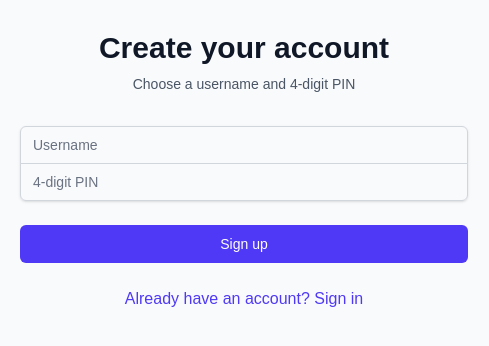
Test case: SignUpPage › should validate username length
Type "ab" into the field with placeholder "Username" at (244, 144), box 20,126 -> 468,164
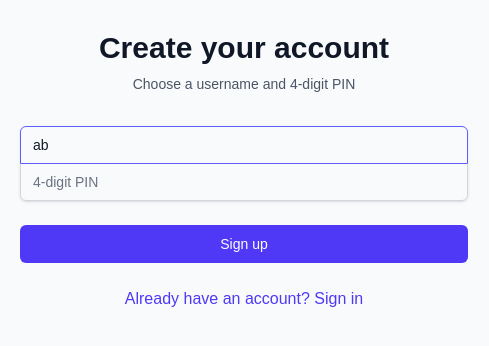
Type "1234" into the password field with placeholder "4-digit PIN" at (244, 182), box 20,162 -> 468,200
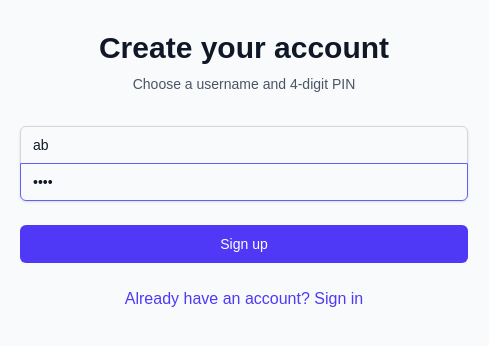
Click the button "Sign up" at (244, 244), box 20,224 -> 468,262
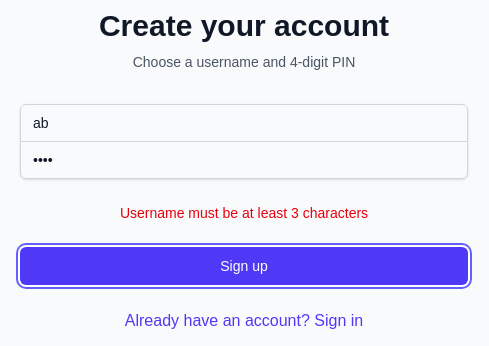
Check: the text "Username must be at least 3 characters" is shown, box 120,204 -> 368,220
